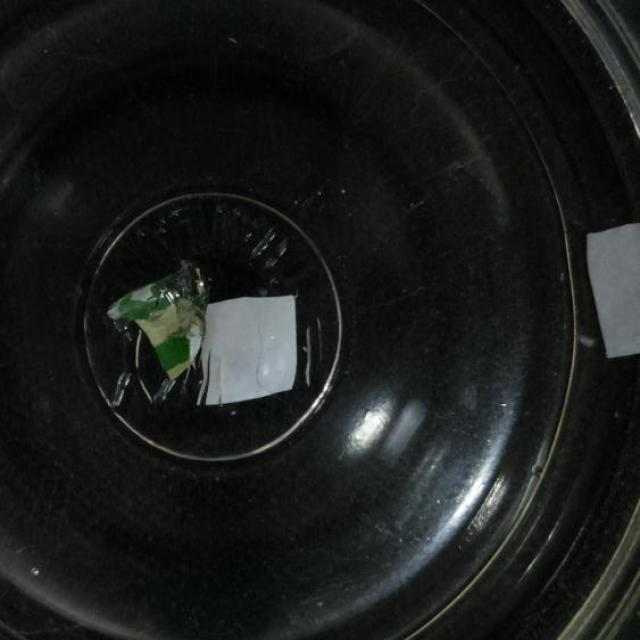fiber: (100, 257, 213, 413), (202, 288, 298, 410), (581, 220, 640, 358)
